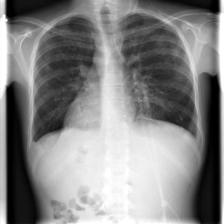normal: (27, 12, 203, 150)
